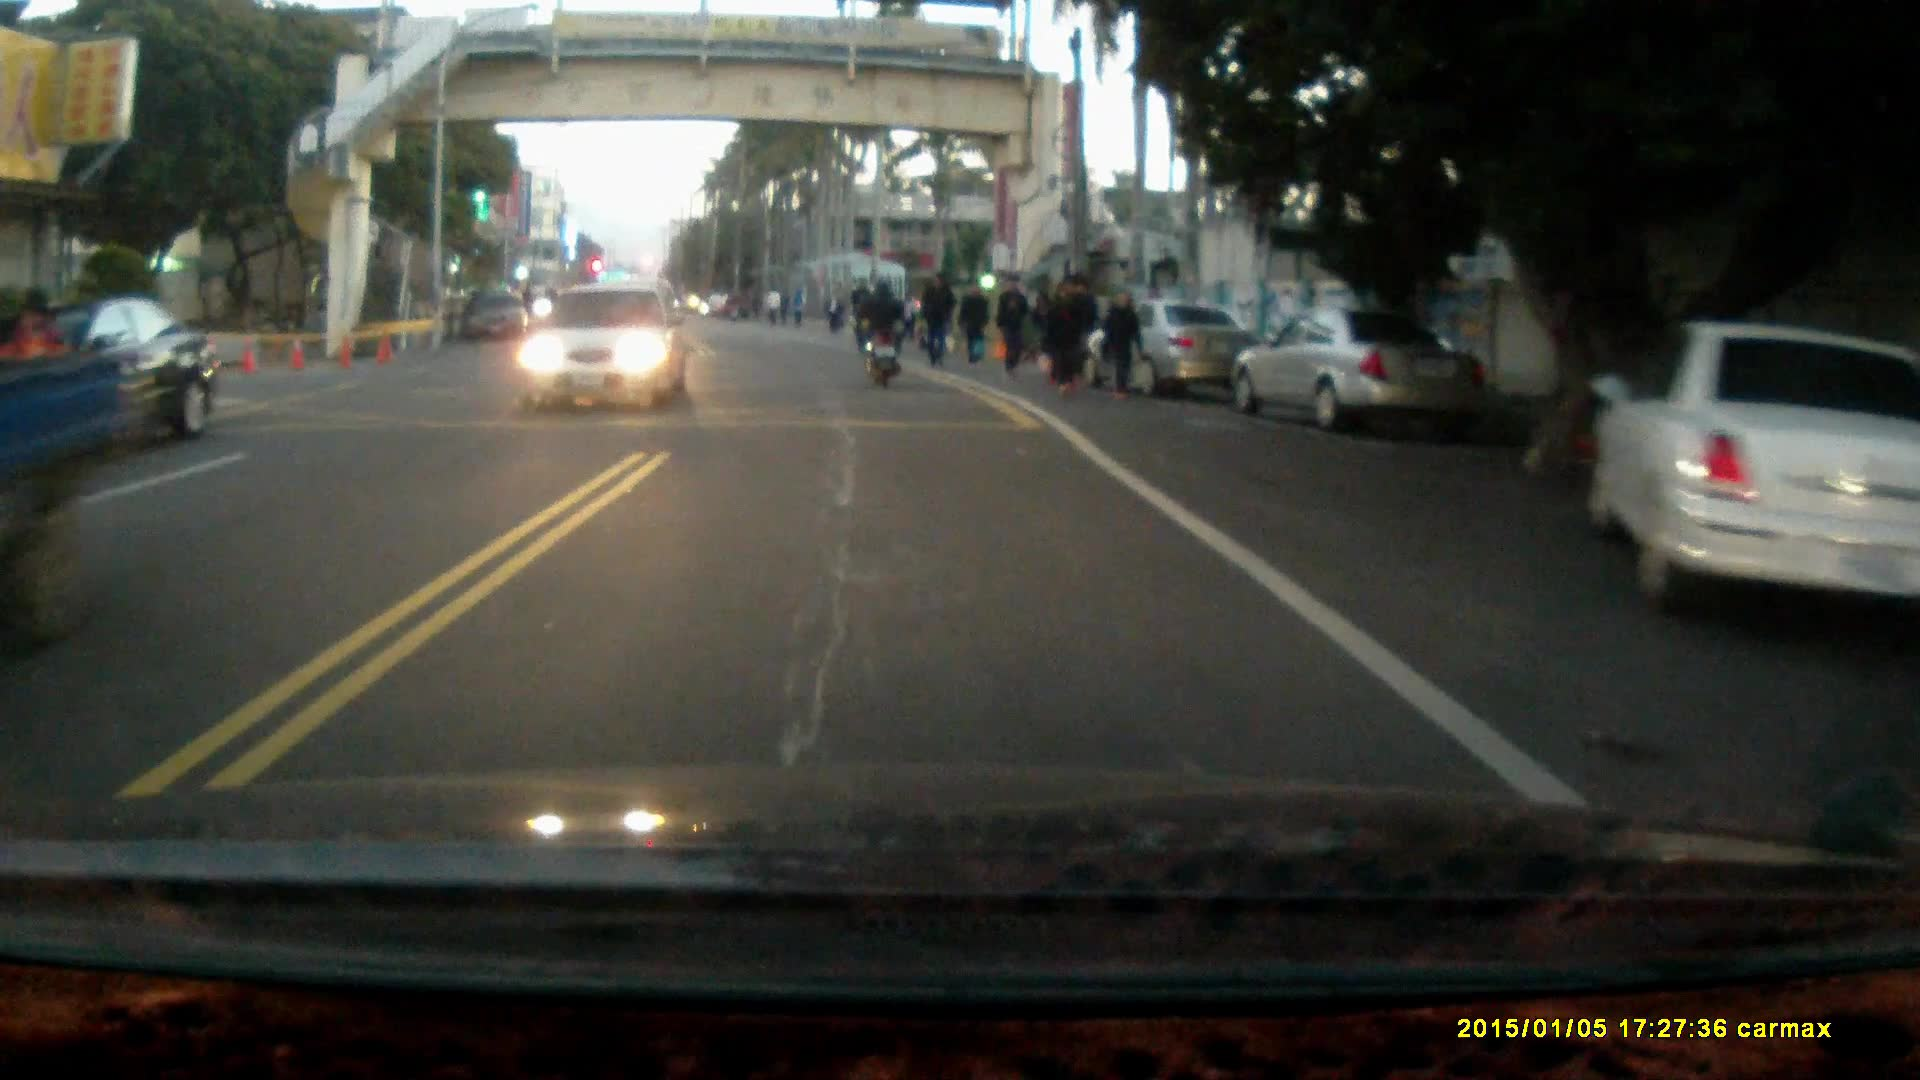pedestrian: (1101, 287, 1143, 403), (1043, 271, 1081, 387), (995, 271, 1032, 375), (1066, 271, 1099, 381), (918, 269, 955, 364), (956, 275, 992, 365)
rider: (852, 273, 909, 387)
vehicle: (1586, 317, 1904, 631), (1, 296, 215, 465), (1230, 297, 1492, 429), (511, 276, 694, 413), (1099, 294, 1265, 395)
